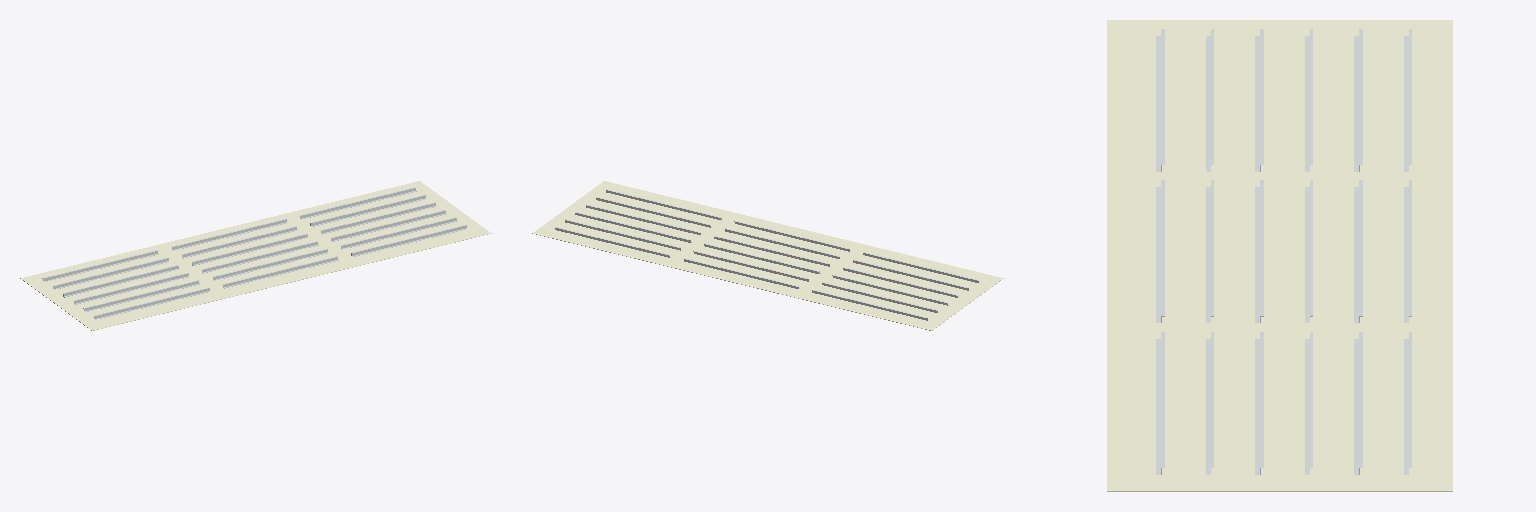
robot.urdf — plane_urdf:
<?xml version="1.0" encoding="utf-8"?>
<!-- This URDF was automatically created by SolidWorks to URDF Exporter! Originally created by [author] ([email redacted]) 
     Commit Version: 1.6.0-4-g7f85cfe  Build Version: 1.6.7995.38578
     For more information, please see http://wiki.ros.org/sw_urdf_exporter -->
<robot
  name="plane_urdf">
  <link
    name="base_link">
    <inertial>
      <origin
        xyz="-2.25 -0.002 0.7"
        rpy="0 0 0" />
      <mass
        value="214.2" />
      <inertia
        ixx="34.986"
        ixy="-7.4377E-15"
        ixz="-1.6384E-15"
        iyy="396.45"
        iyz="-2.1581E-15"
        izz="361.46" />
    </inertial>
    <visual>
      <origin
        xyz="0 0 0"
        rpy="0 0 0" />
      <geometry>
        <mesh
          filename="package://plane_urdf/meshes/base_link.STL" />
      </geometry>
      <material
        name="666">
        <color
          rgba="1 1 0.9 1" />
      </material>
    </visual>
    <collision>
      <origin
        xyz="0 0 0"
        rpy="0 0 0" />
      <geometry>
        <mesh
          filename="package://plane_urdf/meshes/base_link.STL" />
      </geometry>
    </collision>
  </link>
  <link
    name="line_Link">
    <inertial>
      <origin
        xyz="2.1 -0.027209 0.51905"
        rpy="0 0 0" />
      <mass
        value="8.2134" />
      <inertia
        ixx="0.95997"
        ixy="2.6212E-16"
        ixz="9.4369E-16"
        iyy="13.628"
        iyz="-0.00057678"
        izz="12.67" />
    </inertial>
    <visual>
      <origin
        xyz="0 0 0"
        rpy="0 0 0" />
      <geometry>
        <mesh
          filename="package://plane_urdf/meshes/line_Link.STL" />
      </geometry>
      <material
        name="">
        <color
          rgba="0.89804 0.91765 0.92941 1" />
      </material>
    </visual>
    <collision>
      <origin
        xyz="0 0 0"
        rpy="0 0 0" />
      <geometry>
        <mesh
          filename="package://plane_urdf/meshes/line_Link.STL" />
      </geometry>
    </collision>
  </link>
  <joint
    name="line_joint"
    type="fixed">
    <origin
      xyz="-0.15 -1.1999 0.041593"
      rpy="1.5708 0 3.1416" />
    <parent
      link="base_link" />
    <child
      link="line_Link" />
    <axis
      xyz="0 0 0" />
  </joint>
</robot>

--- What the picture shows (computed from the rendered views, not written in the file) ---
Views: 3 orthographic renders of the robot side by side, from view 1: azimuth 30°, elevation 25°; view 2: azimuth 150°, elevation 25°; view 3: azimuth 270°, elevation 25°.
Robot: plane_urdf — 2 links, 1 joints (1 fixed); root link base_link; default pose: all joints at 0.
Visible links, largest first — view 1: base_link, line_Link; view 2: base_link, line_Link; view 3: base_link, line_Link.
Link boxes in pixels (x1,y1,x2,y2): base_link: [20, 181, 491, 330]; line_Link: [42, 187, 466, 319]; base_link: [532, 181, 1003, 330]; line_Link: [554, 189, 979, 320]; base_link: [1107, 20, 1452, 491]; line_Link: [1156, 29, 1411, 474].
Bounding box of the posed robot: 4.5 × 1.4 × 0.036 m (x, y, z).
Meshes: 2 distinct files referenced, 2 mesh visuals loaded (2 binary STL).